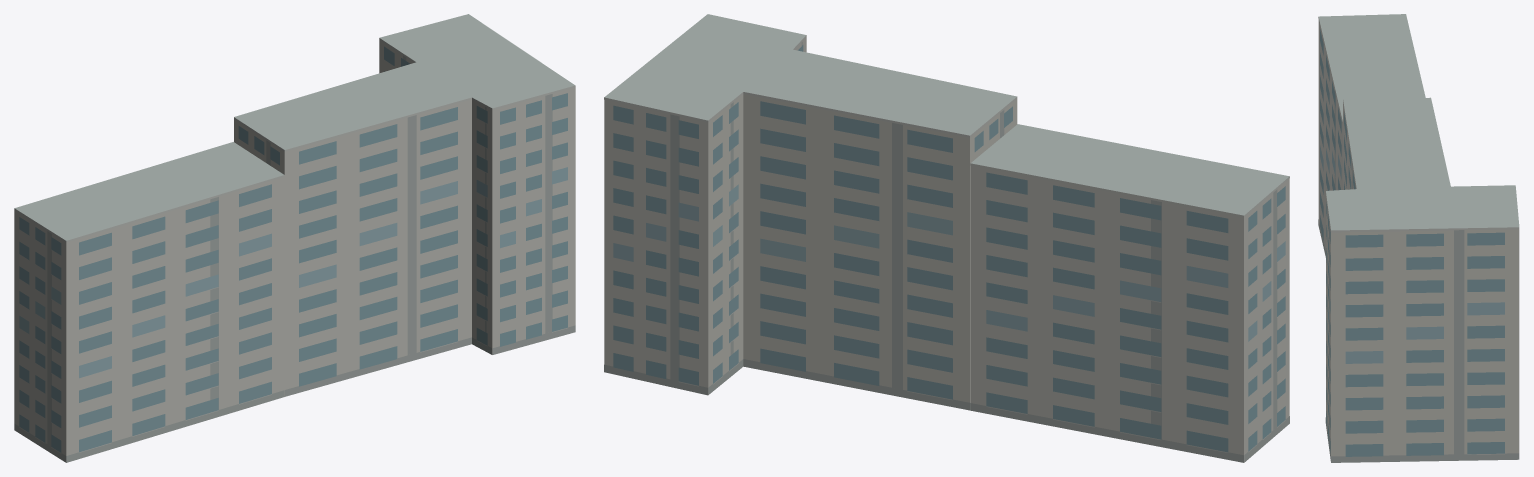
Rendered from residential-4f657f22-21ba-4150-a814-57e65e608e71.glb.
The picture shows the model from 3 angles, left to right: view 1: azimuth 30°, elevation 25°; view 2: azimuth 150°, elevation 25°; view 3: azimuth 270°, elevation 25°; orthographic projection. The views are drawn at different scales.
Parts seen in each view (by area): view 1: residential-4f657f22-21ba-4150-a814-57e65e608e71.tmp; view 2: residential-4f657f22-21ba-4150-a814-57e65e608e71.tmp; view 3: residential-4f657f22-21ba-4150-a814-57e65e608e71.tmp.
Boxes of the visible parts, x1=… form: residential-4f657f22-21ba-4150-a814-57e65e608e71.tmp: x1=14, y1=14, x2=575, y2=462; residential-4f657f22-21ba-4150-a814-57e65e608e71.tmp: x1=604, y1=14, x2=1289, y2=462; residential-4f657f22-21ba-4150-a814-57e65e608e71.tmp: x1=1318, y1=14, x2=1519, y2=462.
Size of the model in its own units: 67.45 by 30.5 by 23.9.
